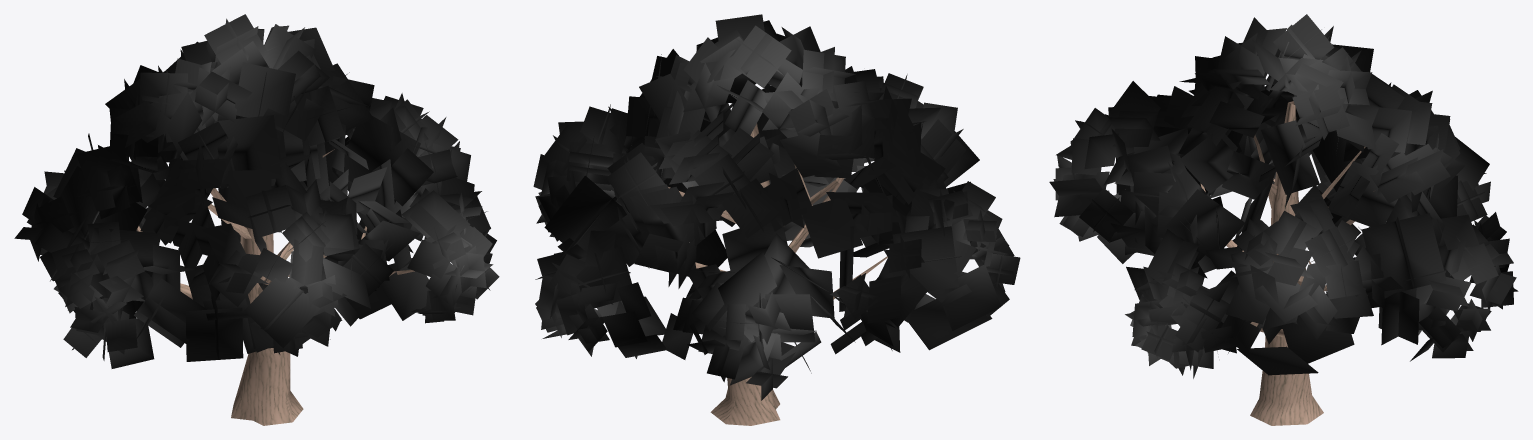
The model's file is b_plant_tree_lod1_01.fbx.
3 views of the same model, side by side, from view 1: azimuth 30°, elevation 25°; view 2: azimuth 150°, elevation 25°; view 3: azimuth 270°, elevation 25° (orthographic). The views are drawn at different scales.
Parts seen in each view (by area): view 1: b_plant_tree_lod1_01_02, b_plant_tree_lod1_01_01; view 2: b_plant_tree_lod1_01_02, b_plant_tree_lod1_01_01; view 3: b_plant_tree_lod1_01_02, b_plant_tree_lod1_01_01.
Boxes of the visible parts, <box> form: b_plant_tree_lod1_01_02: <box>14,14,499,368</box>; b_plant_tree_lod1_01_01: <box>136,149,414,425</box>; b_plant_tree_lod1_01_02: <box>533,14,1020,400</box>; b_plant_tree_lod1_01_01: <box>668,123,887,425</box>; b_plant_tree_lod1_01_02: <box>1049,14,1518,378</box>; b_plant_tree_lod1_01_01: <box>1200,101,1375,425</box>.
Bounding box in the file's own units: 20867 × 17363 × 19267.
